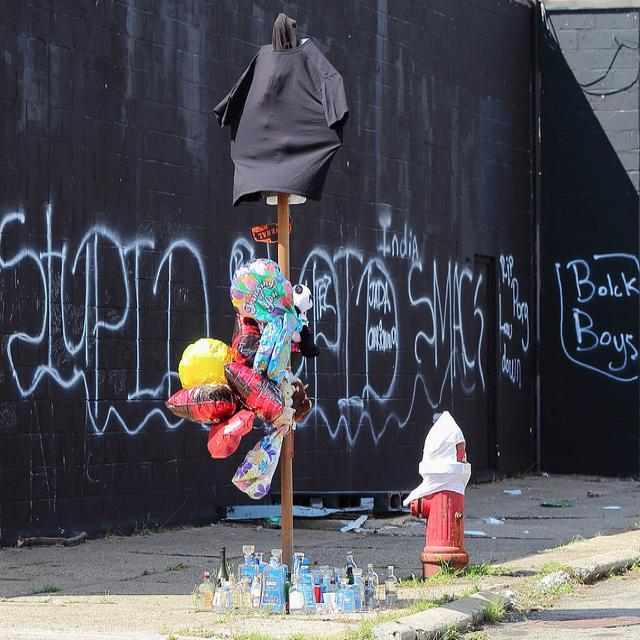fire_hydrant: (404, 404, 472, 580)
